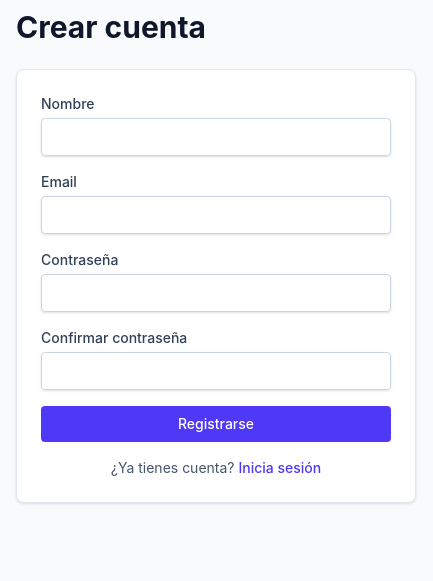
Test: RegisterPage › valida los campos antes de registrar
Type "ana@correo.com" into the field labelled "Email" at (216, 215), box [41,196,391,234]
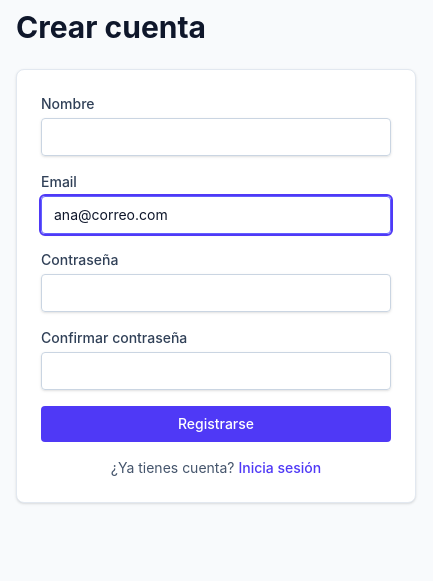
Type "corta" into the password field labelled "Contraseña" at (216, 293), box [41,274,391,312]
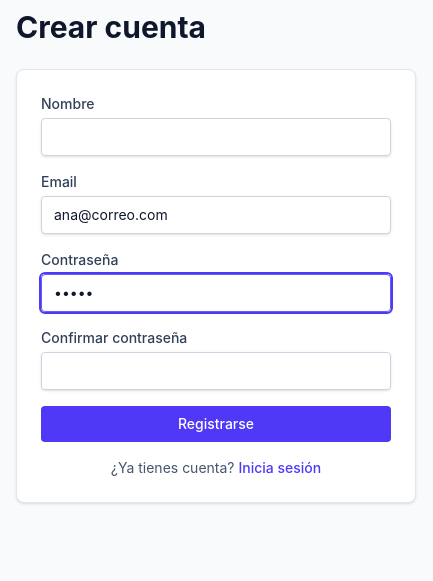
Type "otra" into the password field labelled "Confirmar contraseña" at (216, 371), box [41,352,391,390]
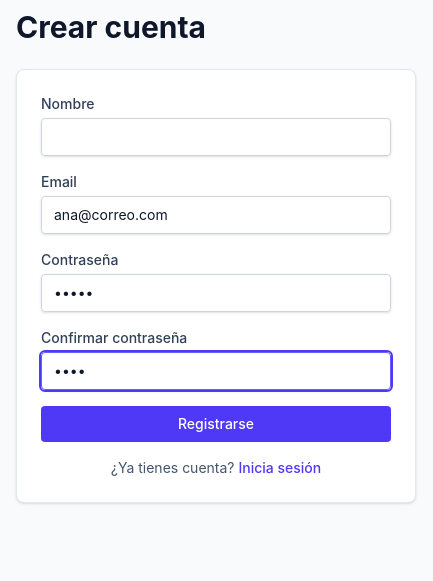
Click the button "Registrarse" at (216, 424), box [41,406,391,442]
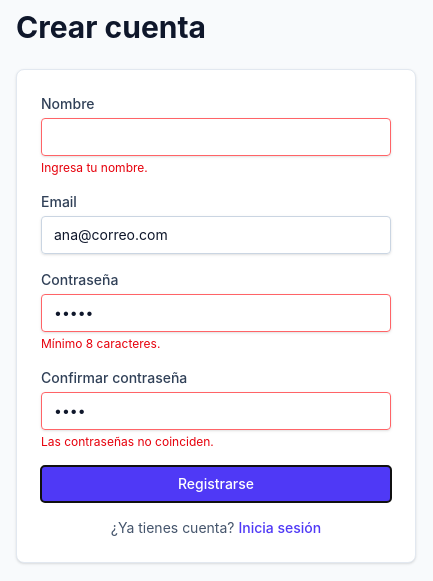
Now the text "Ingresa tu nombre." is shown, box [41,160,148,175]
Now the text "Mínimo 8 caracteres." is shown, box [41,336,160,351]
Now the text "Las contraseñas no coinciden." is shown, box [41,434,214,449]
